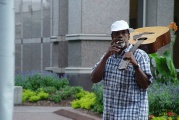male: (105, 21, 134, 55)
